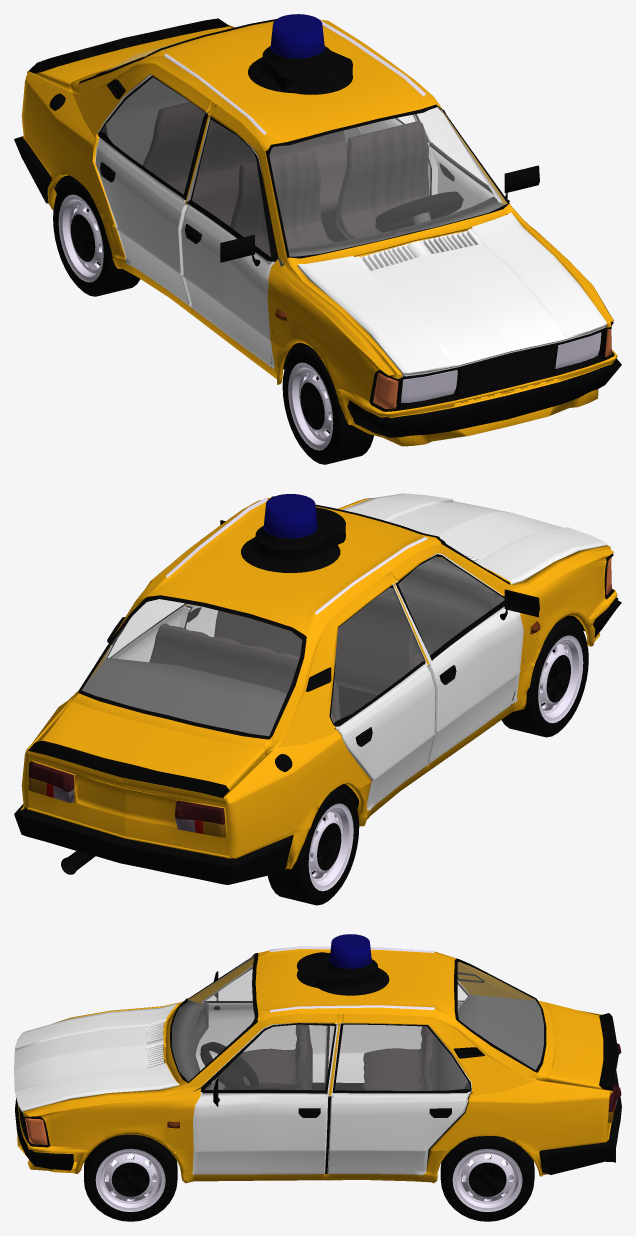
File: skoda120.glb
3 views of the same model, one above another, from view 1: azimuth 30°, elevation 25°; view 2: azimuth 150°, elevation 25°; view 3: azimuth 270°, elevation 25° (orthographic). The views are drawn at different scales.
Visible parts, largest first — view 1: Cube, Plane.006, Plane.007, Plane.008, Kolo_Predni_Leve, Houkacka.001, Kolo_Zadni_Leve.001, Plane.005, Palubni_deska, Circle.005, Zrcatka.002; view 2: Cube, Plane.005, Plane.008, Houkacka.001, Kolo_Zadni_Leve.001, Kolo_Predni_Leve, Plane.006, Palubni_deska, Plane.007, Zrcatka.002; view 3: Cube, Kolo_Predni_Prave, Kolo_Zadni_Prave.001, Plane.005, Houkacka.001, Plane.006, Plane.008, Palubni_deska, Circle.005, Plane.007, Vzduchovy_Filtr.001.
Part boxes in pixels (x1,y1,x2,y2): Cube: (14, 18, 621, 446); Plane.006: (142, 102, 347, 226); Plane.007: (335, 121, 429, 239); Plane.008: (230, 147, 333, 256); Kolo_Predni_Leve: (282, 345, 373, 464); Houkacka.001: (248, 14, 352, 94); Kolo_Zadni_Leve.001: (53, 178, 140, 296); Plane.005: (105, 77, 361, 165); Palubni_deska: (271, 196, 505, 367); Circle.005: (375, 191, 463, 232); Zrcatka.002: (220, 165, 539, 266); Cube: (14, 493, 621, 884); Plane.005: (82, 657, 335, 736); Plane.008: (334, 593, 423, 694); Houkacka.001: (241, 494, 345, 572); Kolo_Zadni_Leve.001: (267, 787, 359, 905); Kolo_Predni_Leve: (501, 618, 588, 737); Plane.006: (149, 623, 341, 720); Palubni_deska: (383, 557, 523, 705); Plane.007: (214, 610, 302, 657); Zrcatka.002: (220, 520, 539, 620); Cube: (14, 946, 621, 1183); Kolo_Predni_Prave: (84, 1134, 177, 1221); Kolo_Zadni_Prave.001: (440, 1136, 534, 1221); Plane.005: (431, 994, 543, 1147); Houkacka.001: (296, 934, 389, 995); Plane.006: (363, 1026, 437, 1090); Plane.008: (239, 1024, 312, 1089); Palubni_deska: (172, 1000, 208, 1091); Circle.005: (200, 1042, 258, 1089); Plane.007: (295, 1026, 312, 1090); Vzduchovy_Filtr.001: (453, 972, 484, 1058).
Size of the model in its own units: 1.29 by 1.17 by 2.76.
